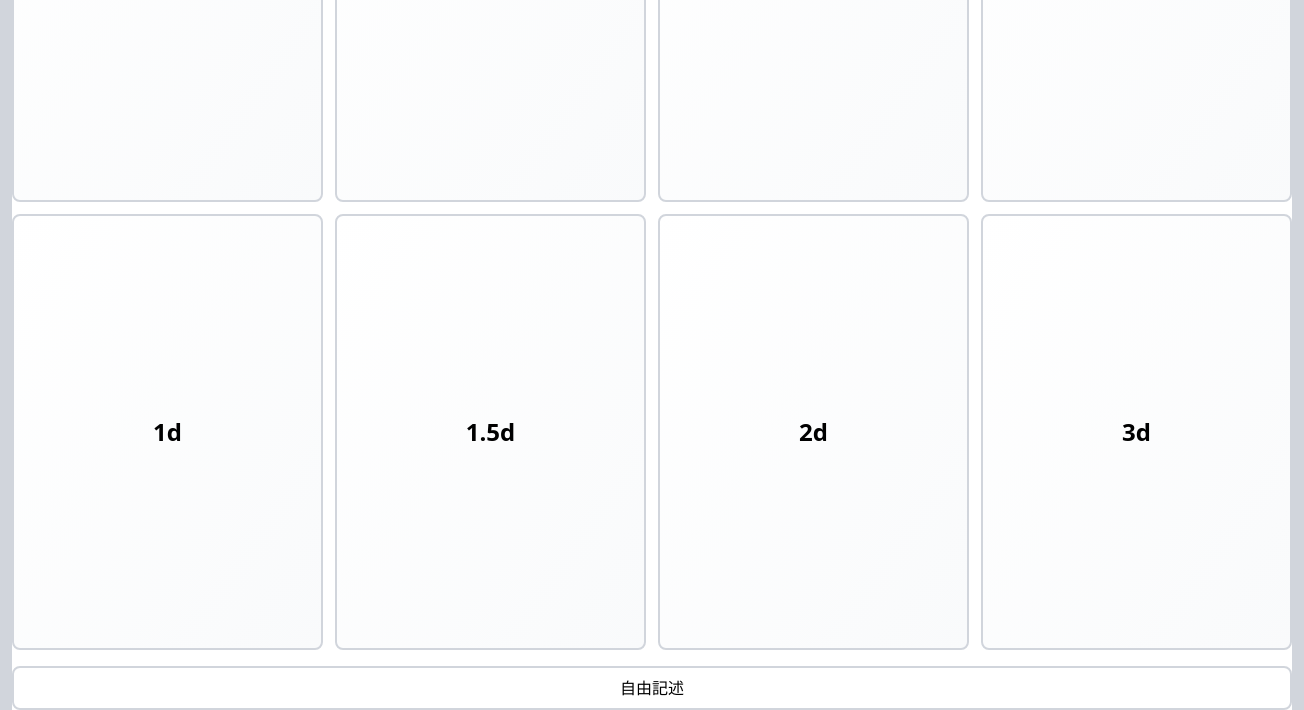
CardSelector › 自由記述ボタンをクリックすると入力フォームが表示される
(page scrolled)
Click the button "自由記述": [652, 688] box [12,666,1292,709]
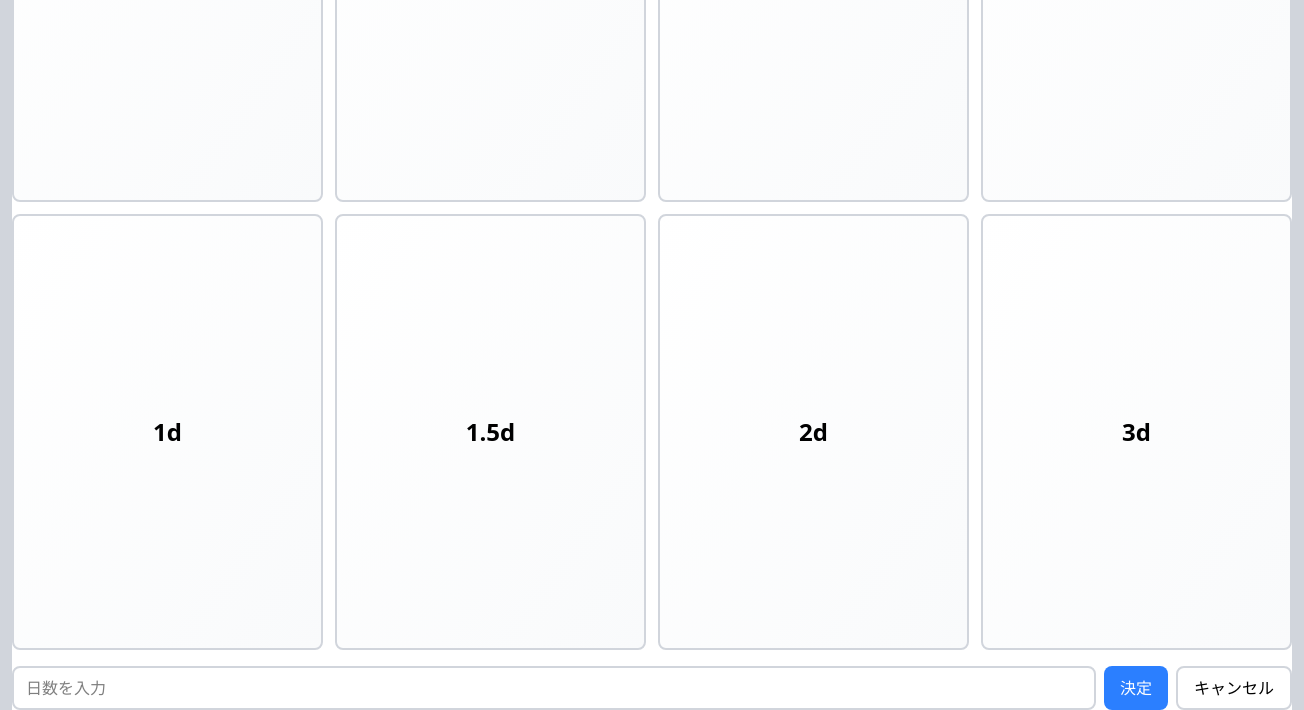
expect the number field with placeholder "日数を入力" is shown: met, box [12,666,1096,709]
expect the button "決定" is shown: met, box [1104,666,1168,709]
expect the button "キャンセル" is shown: met, box [1176,666,1292,709]
